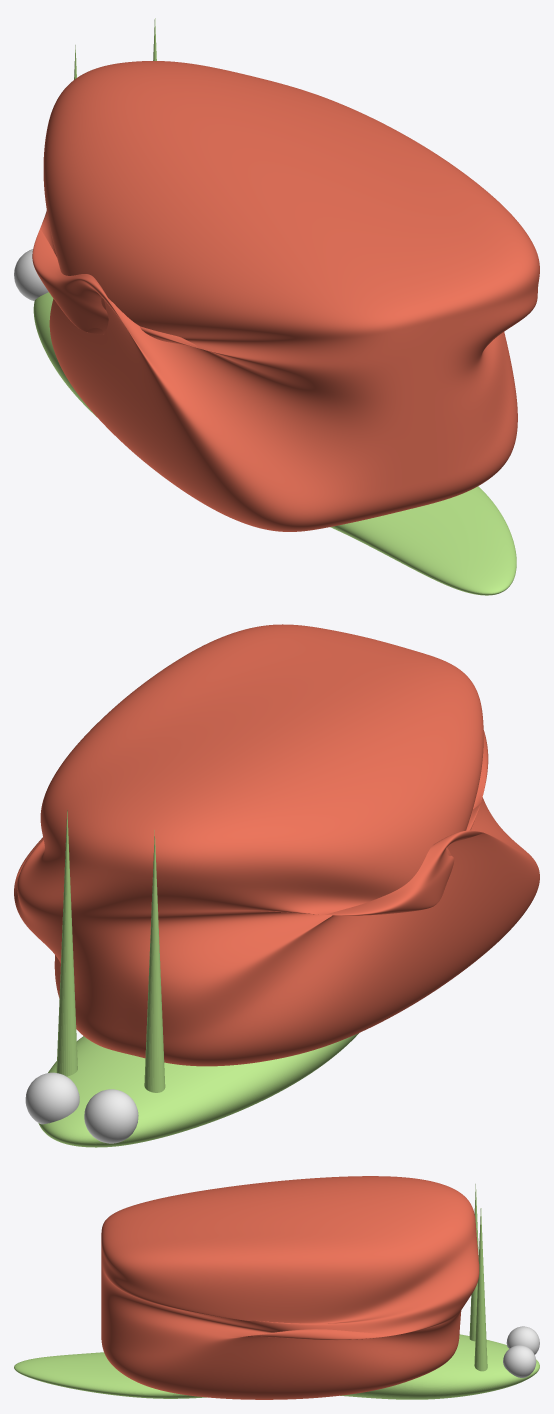
File: shell.fbx
The picture shows the model from 3 angles, top to bottom: view 1: azimuth 30°, elevation 25°; view 2: azimuth 150°, elevation 25°; view 3: azimuth 270°, elevation 25°; orthographic projection. The views are drawn at different scales.
Parts seen in each view (by area): view 1: Cube.001, Cube, Sphere.001; view 2: Cube.001, Cube, Cone, Cone.001, Sphere.001, Sphere; view 3: Cube.001, Cube, Cone, Sphere, Sphere.001, Cone.001.
Part boxes in pixels (x1,y1,x2,y2): Cube.001: [32, 61, 539, 531]; Cube: [33, 292, 516, 595]; Sphere.001: [14, 249, 48, 300]; Cube.001: [14, 624, 539, 1066]; Cube: [38, 1033, 358, 1147]; Cone: [56, 810, 77, 1076]; Cone.001: [144, 830, 165, 1092]; Sphere.001: [84, 1089, 138, 1143]; Sphere: [25, 1072, 79, 1124]; Cube.001: [101, 1176, 479, 1399]; Cube: [14, 1334, 539, 1399]; Cone: [474, 1208, 487, 1371]; Sphere: [503, 1345, 536, 1377]; Sphere.001: [506, 1326, 539, 1354]; Cone.001: [469, 1184, 478, 1341].
Bounding box in the file's own units: 3776 × 3189 × 7618.
